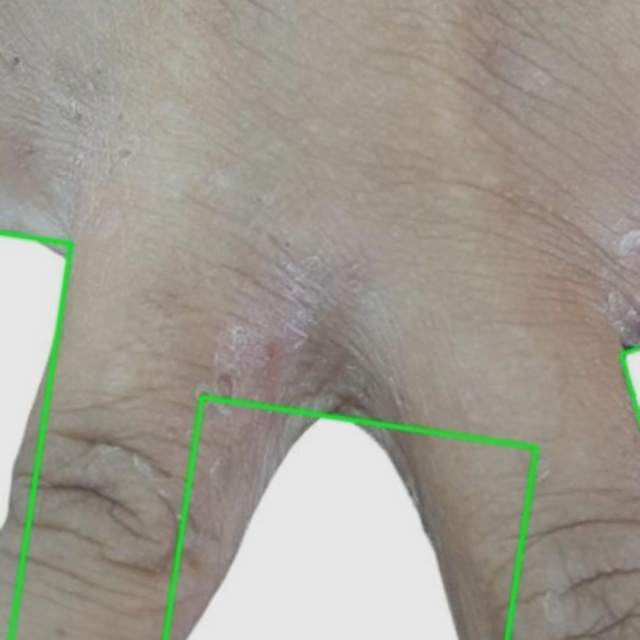Scabies: (165, 397, 536, 639)
